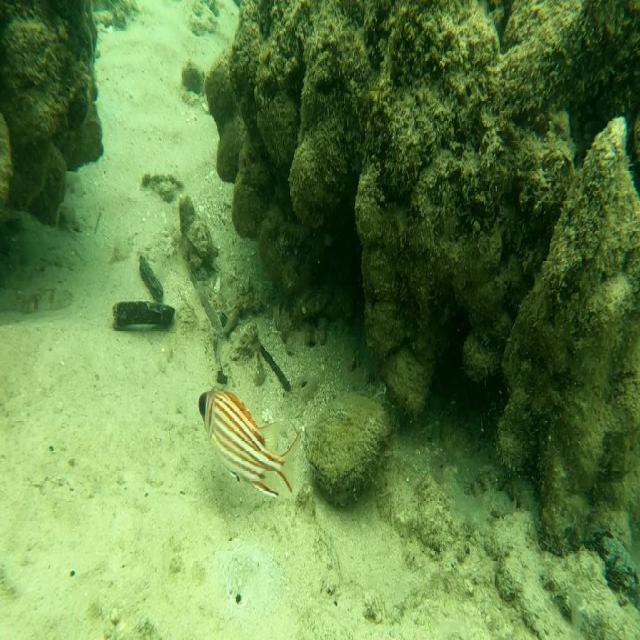Asker Baligi: (193, 366, 307, 520)
